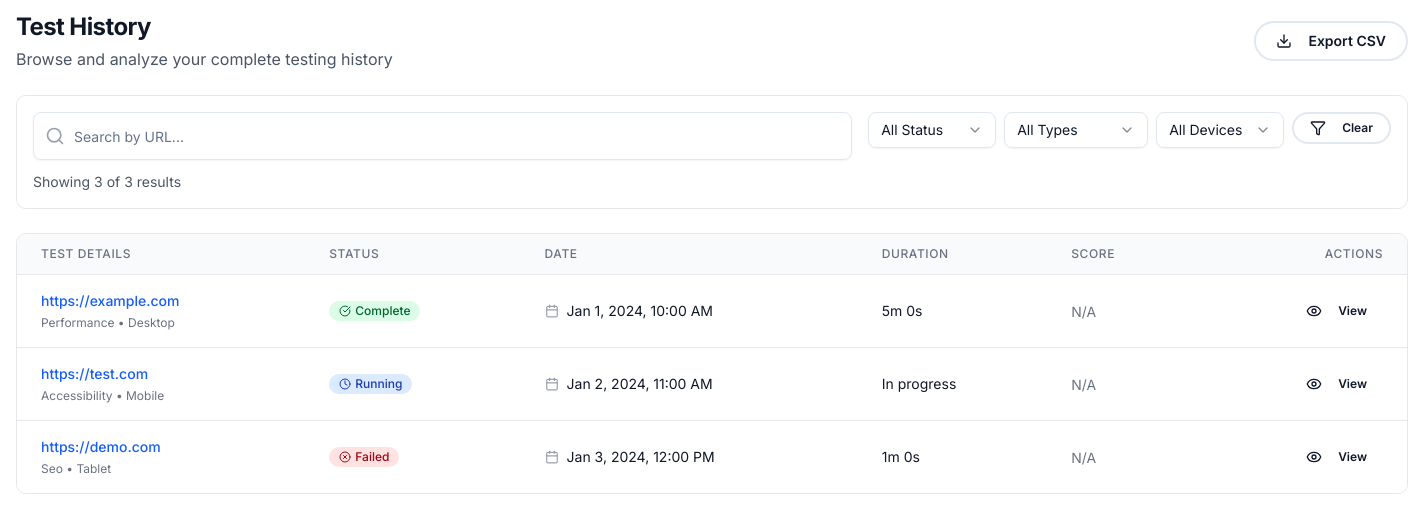
Test case: TestHistoryPage › should clear all filters
The width and height of the screenshot is (1425, 511).
Type "example" into the field with placeholder "Search by URL..." at {"x": 443, "y": 136}, box left=33, top=112, right=852, bottom=160
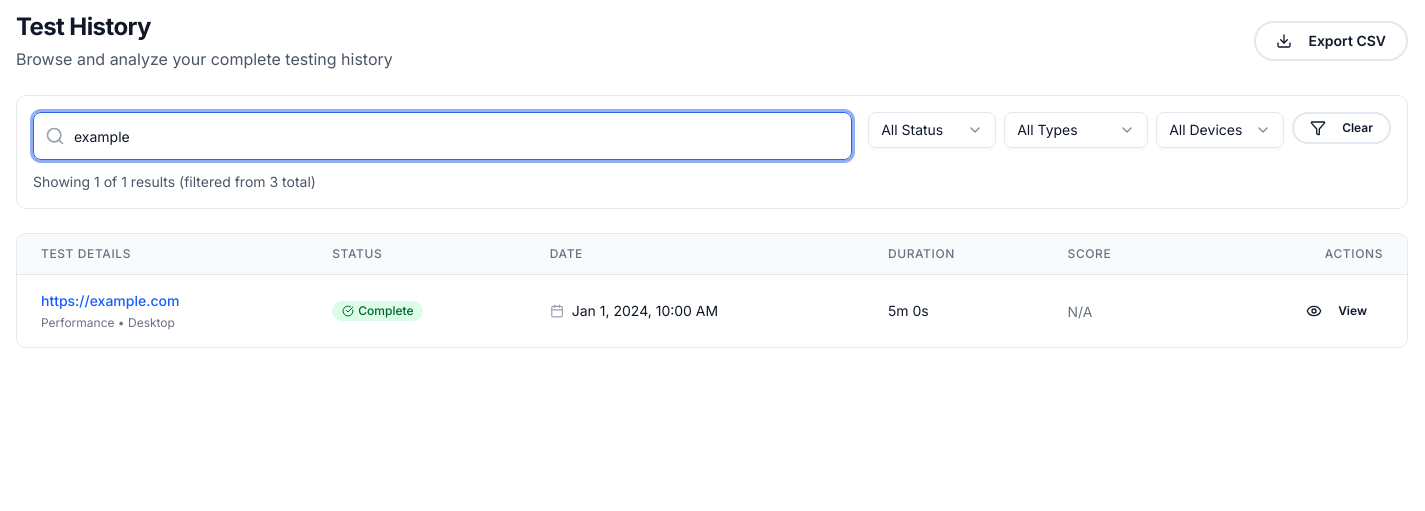
Click the button "Clear" at {"x": 1342, "y": 128}, box left=1292, top=112, right=1391, bottom=144
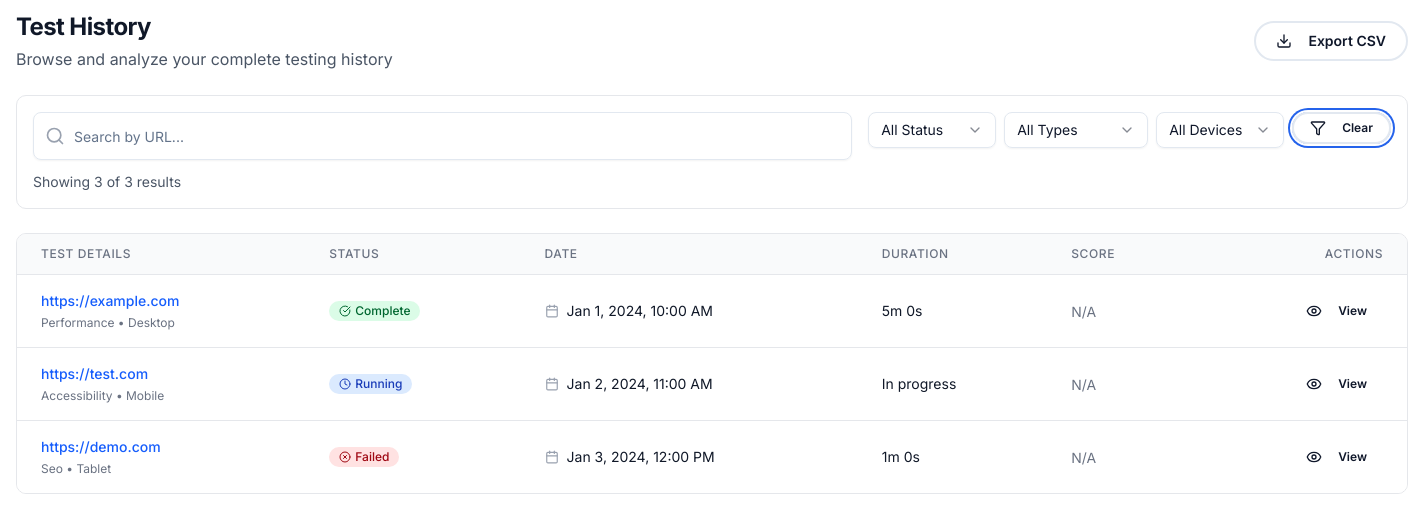
Check: the link "https://example.com" is shown, box left=41, top=292, right=179, bottom=309
Check: the field with placeholder "Search by URL..." is empty, box left=33, top=112, right=852, bottom=160
Check: the link "https://test.com" is shown, box left=41, top=365, right=148, bottom=382
